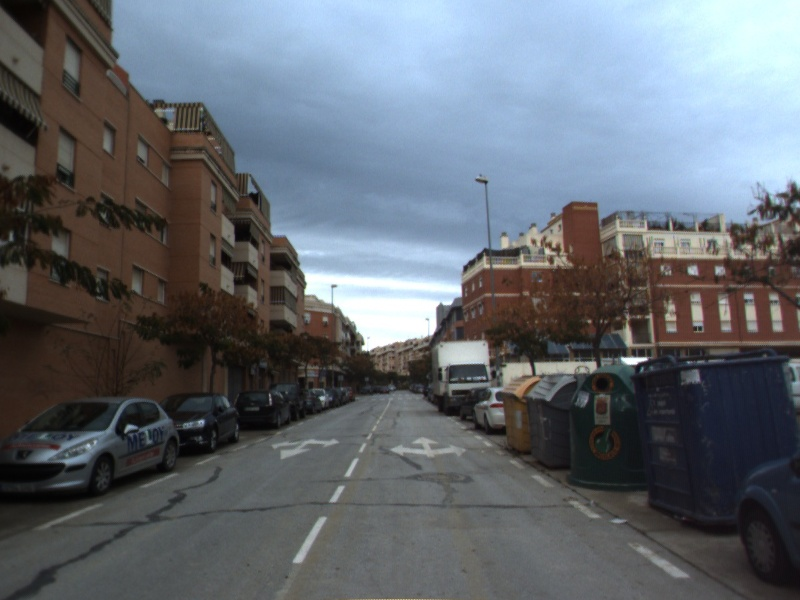STRAIGHT_LEFT_RIGHT: (387, 435, 469, 459)
